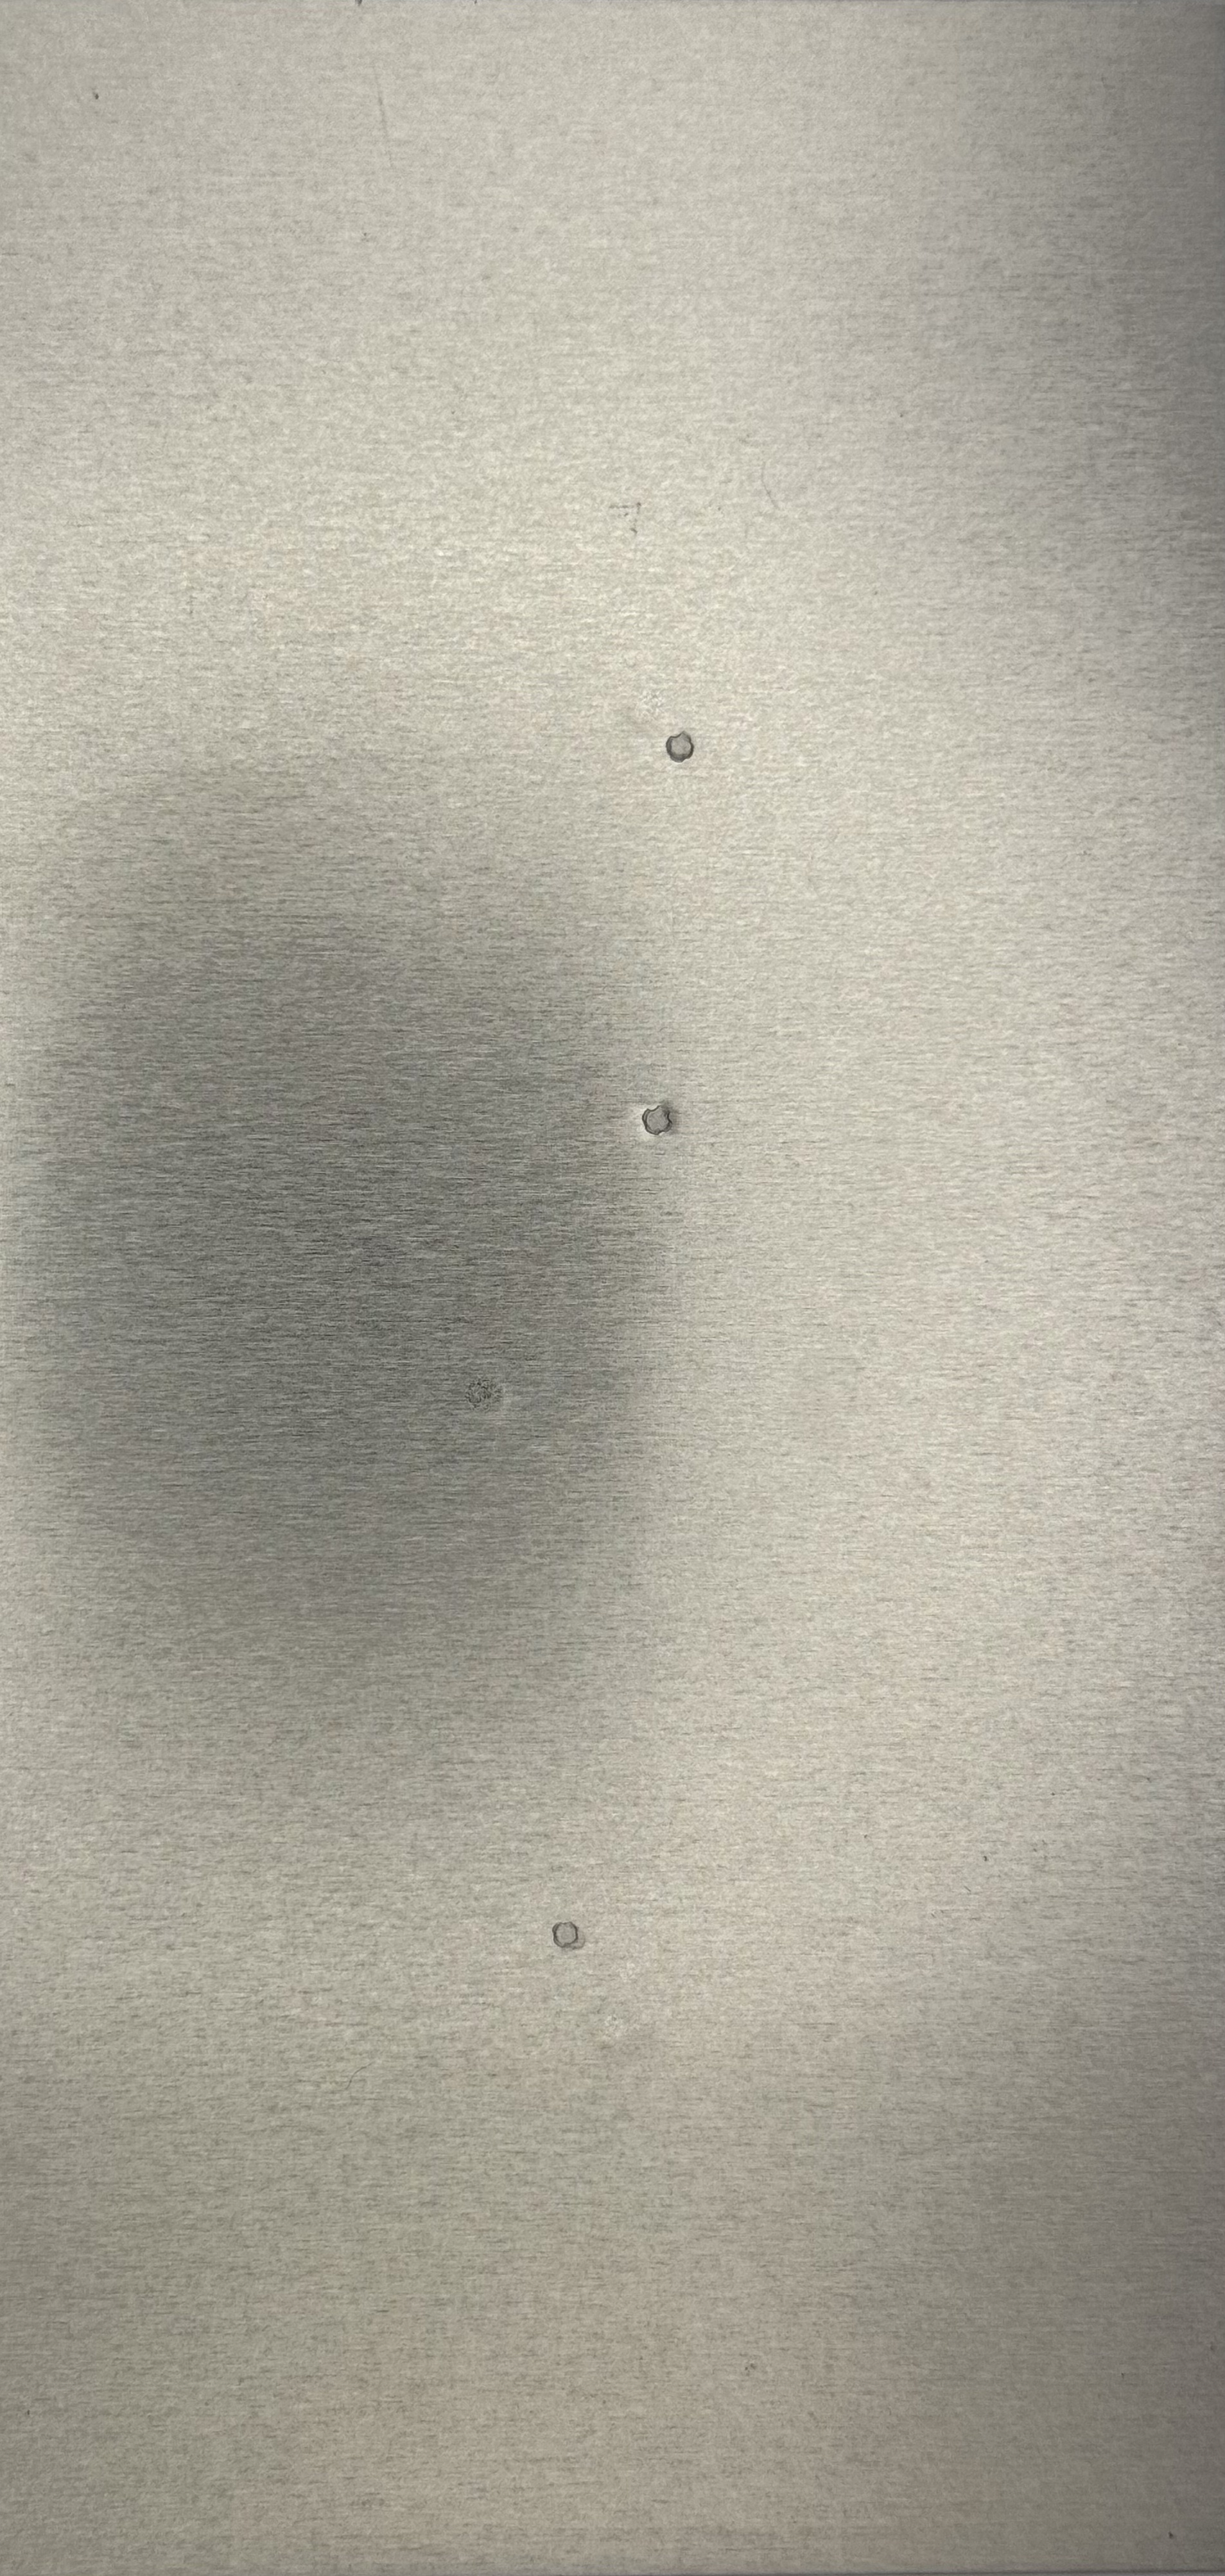Delle: (448, 1364, 525, 1428), (624, 1091, 695, 1160), (654, 721, 704, 775), (542, 1911, 594, 1960)
